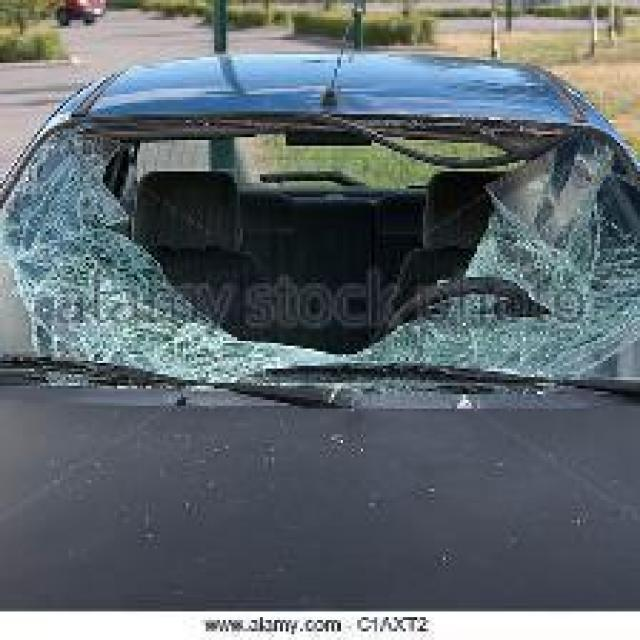damaged: (12, 125, 638, 388)
